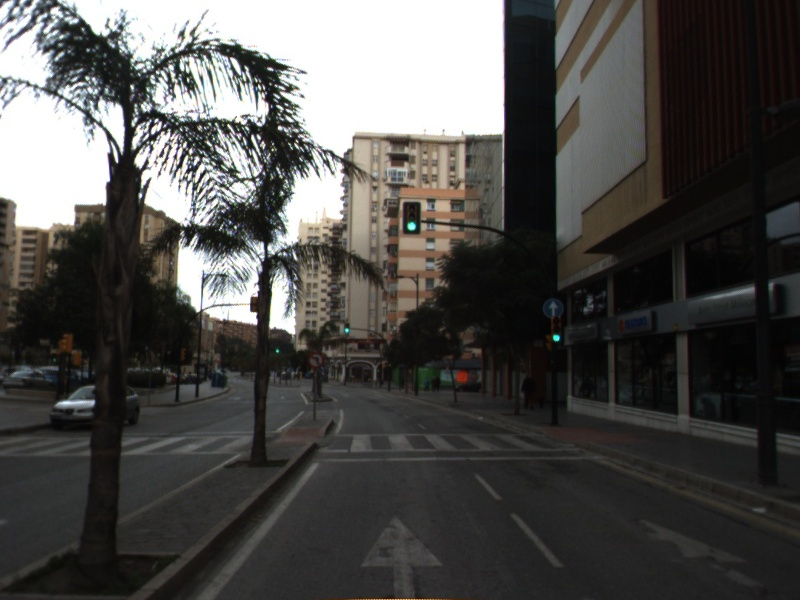STRAIGHT: (634, 511, 800, 600), (357, 510, 448, 600)
